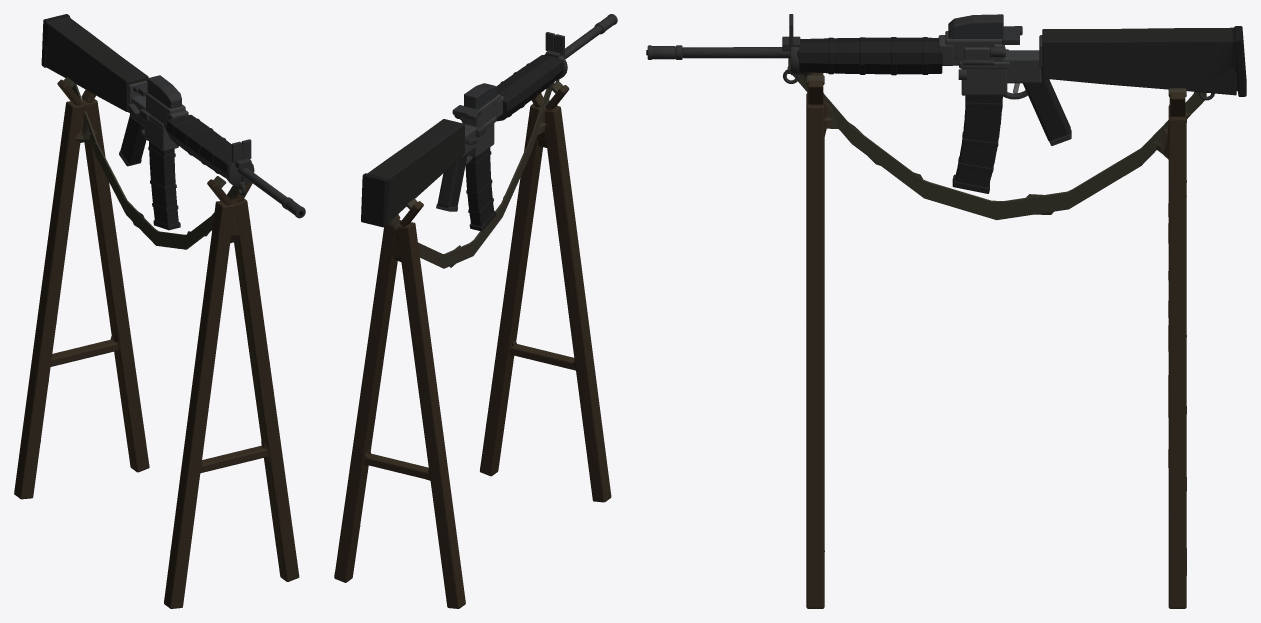
The model's file is rifle_w.glb.
The picture shows the model from 3 angles, left to right: view 1: azimuth 30°, elevation 25°; view 2: azimuth 150°, elevation 25°; view 3: azimuth 270°, elevation 25°; orthographic projection. The views are drawn at different scales.
Visible parts, largest first — view 1: L0_00_hull_opaque, L1_01_hull_opaque, L2_02_hull_opaque; view 2: L0_00_hull_opaque, L1_01_hull_opaque, L2_02_hull_opaque; view 3: L0_00_hull_opaque, L1_01_hull_opaque, L2_02_hull_opaque.
Part boxes in pixels (x1=…): L0_00_hull_opaque: x1=14, y1=14, x2=305, y2=608; L1_01_hull_opaque: x1=19, y1=14, x2=294, y2=606; L2_02_hull_opaque: x1=14, y1=99, x2=286, y2=600; L0_00_hull_opaque: x1=334, y1=14, x2=617, y2=608; L1_01_hull_opaque: x1=334, y1=34, x2=601, y2=603; L2_02_hull_opaque: x1=337, y1=92, x2=604, y2=605; L0_00_hull_opaque: x1=646, y1=14, x2=1246, y2=608; L1_01_hull_opaque: x1=692, y1=27, x2=1245, y2=608; L2_02_hull_opaque: x1=788, y1=58, x2=1186, y2=604.
Size of the model in its own units: 0.2989 by 1.02 by 0.9949.
